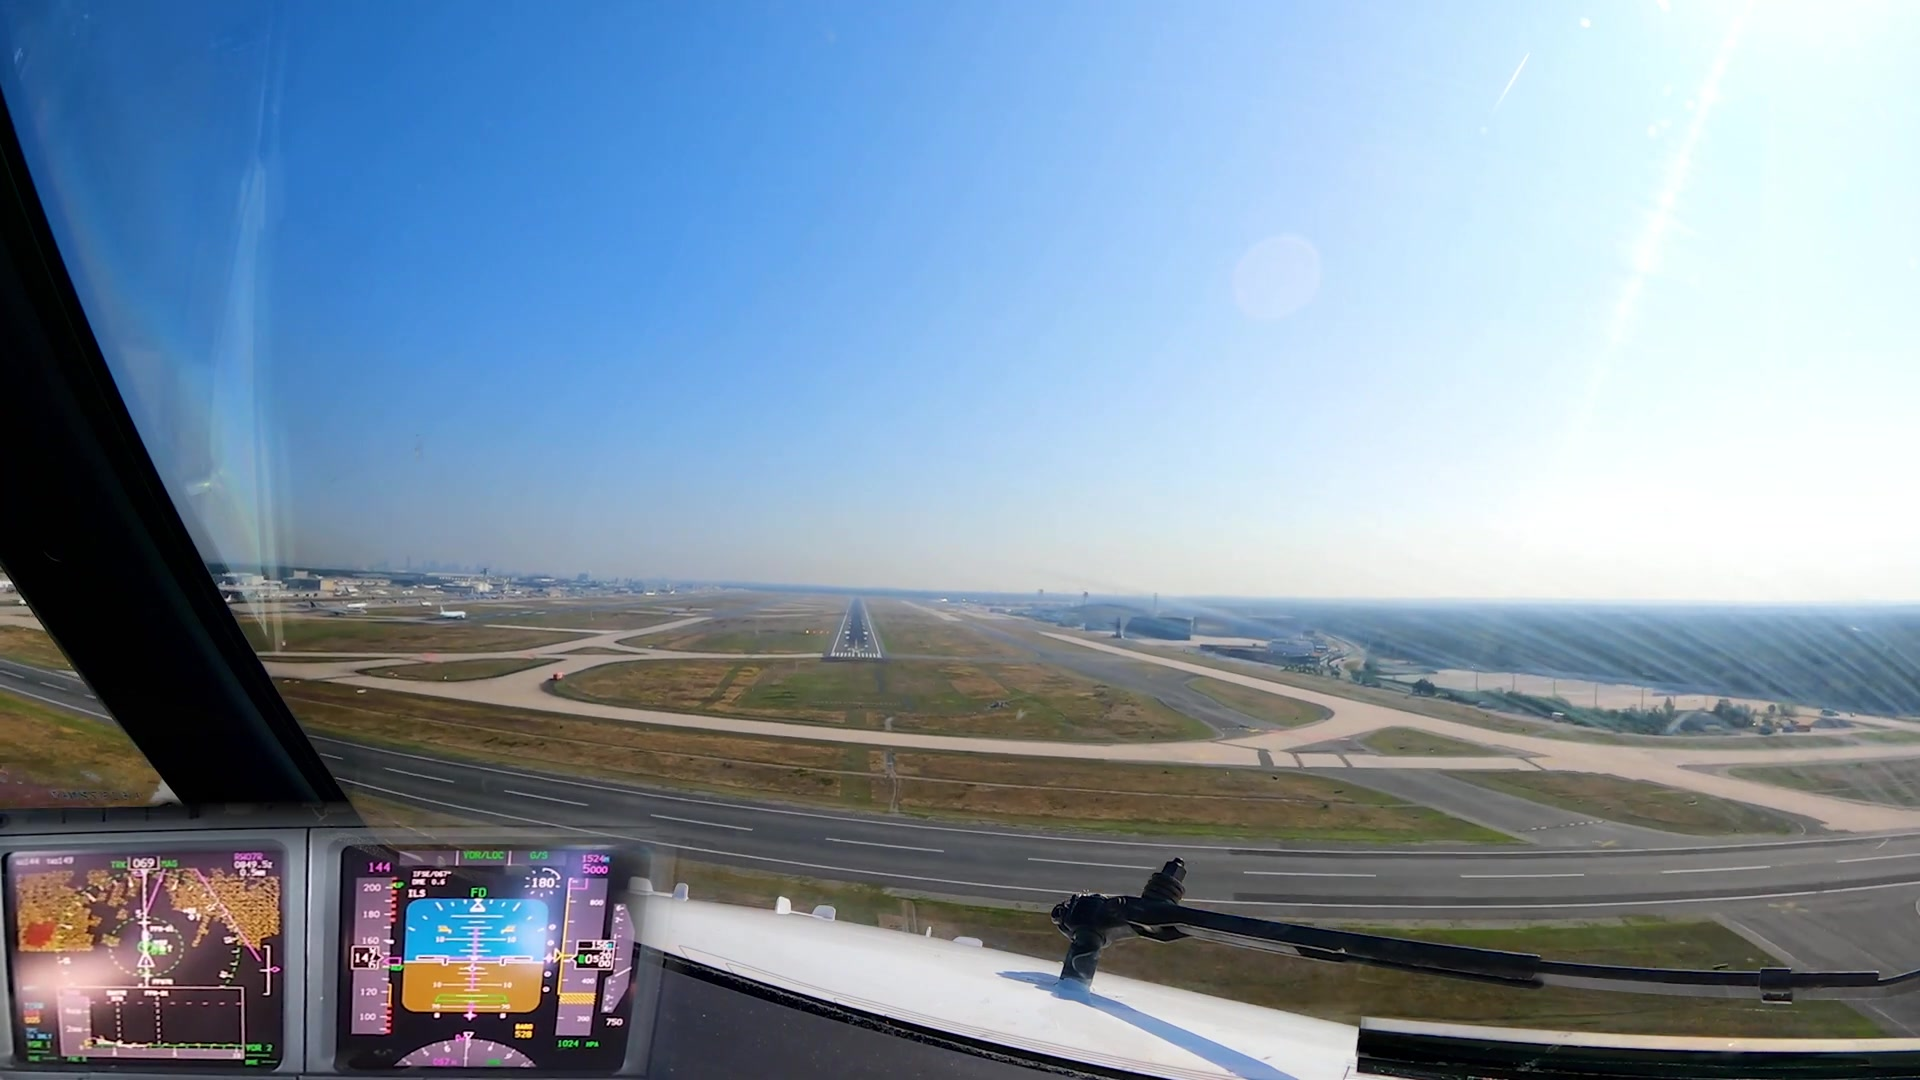entrance: (828, 650, 881, 659)
runway: (827, 592, 886, 663)
